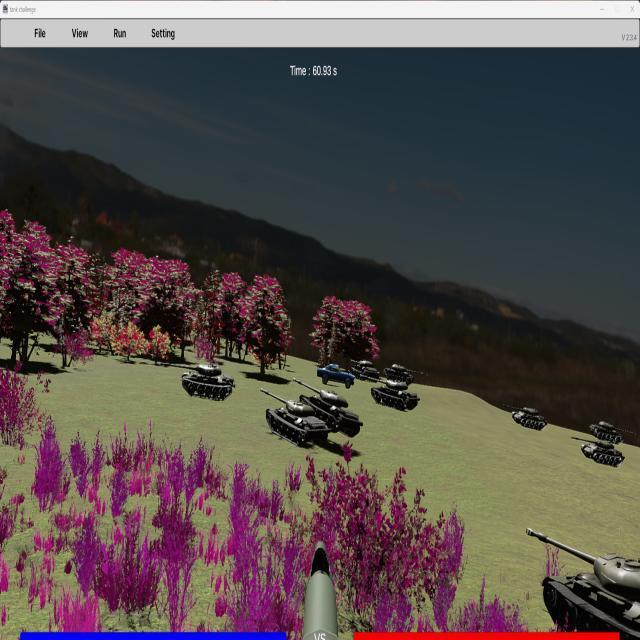Tank: (525, 528, 640, 640), (259, 387, 329, 446), (295, 378, 363, 438), (159, 361, 235, 401), (360, 375, 421, 411), (570, 437, 625, 467), (502, 403, 549, 430), (587, 421, 635, 444), (385, 363, 426, 384)
car: (317, 364, 356, 389)
